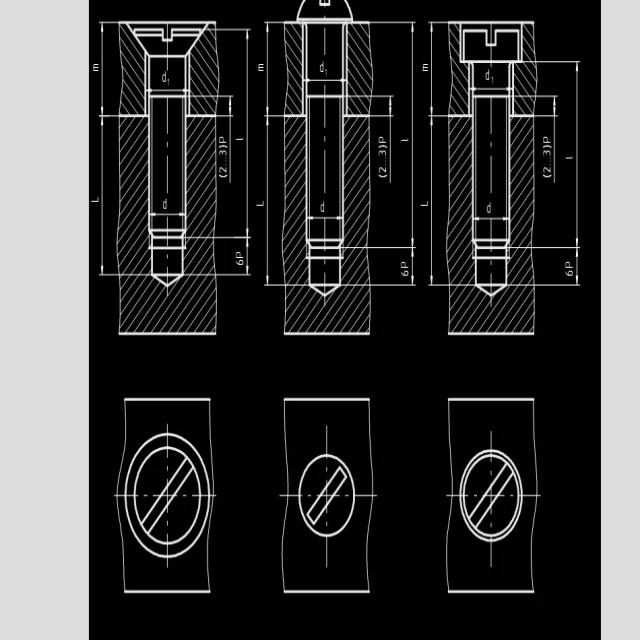marking_line: (245, 32, 250, 238), (411, 24, 415, 248), (227, 98, 235, 186), (265, 116, 269, 283), (576, 63, 579, 247), (430, 116, 433, 284), (101, 119, 104, 273), (100, 23, 105, 115), (429, 23, 433, 114), (265, 24, 269, 113), (389, 98, 392, 183), (245, 239, 250, 275), (574, 249, 579, 284), (411, 249, 414, 284)
numeric: (218, 166, 228, 175), (377, 165, 387, 173), (378, 149, 387, 157), (542, 166, 552, 173), (218, 149, 227, 156), (542, 150, 551, 157)
